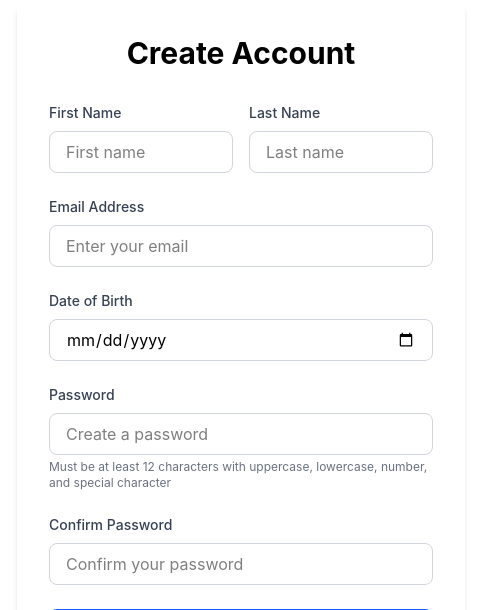
RegisterPage › should show validation error for non-matching passwords
Type "ValidPass123!" into the password field labelled "Password" at (241, 434), box [49,413,433,455]
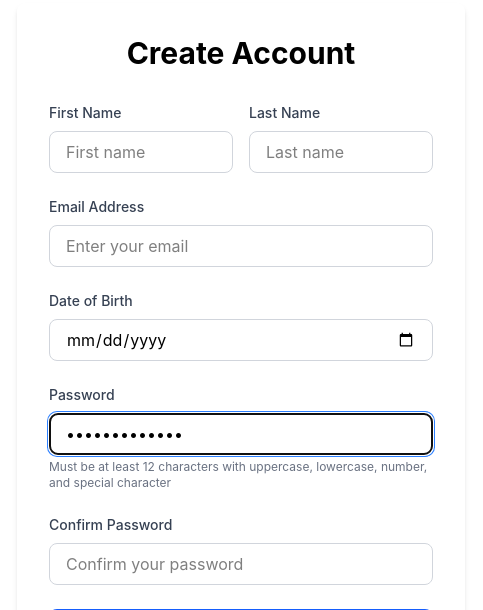
Type "DifferentPass123!" into the password field labelled "Confirm Password" at (241, 564), box [49,543,433,585]
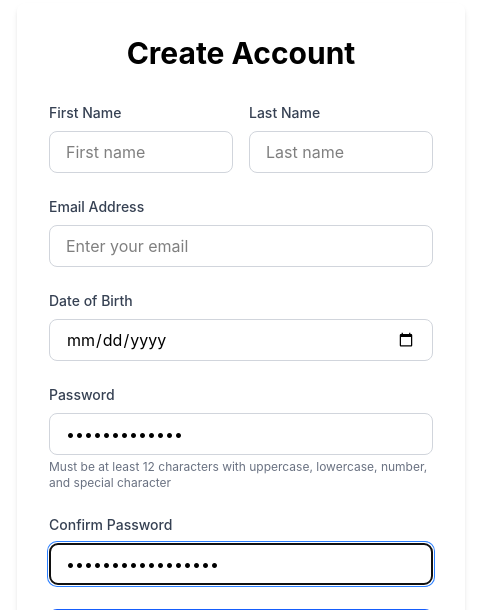
Press Tab
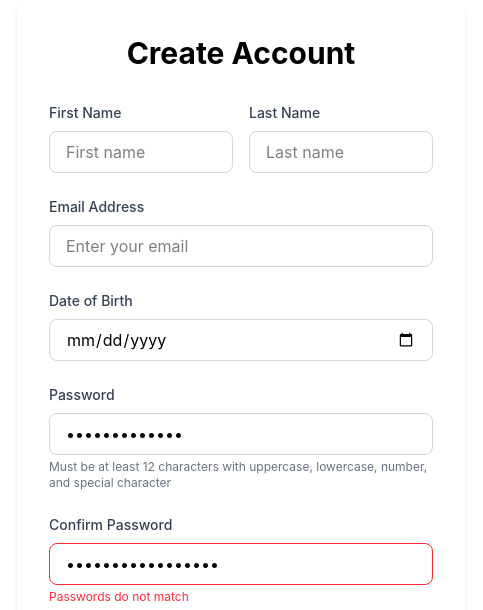
expect the text "Passwords do not match" is shown: met, box [49,589,189,604]
